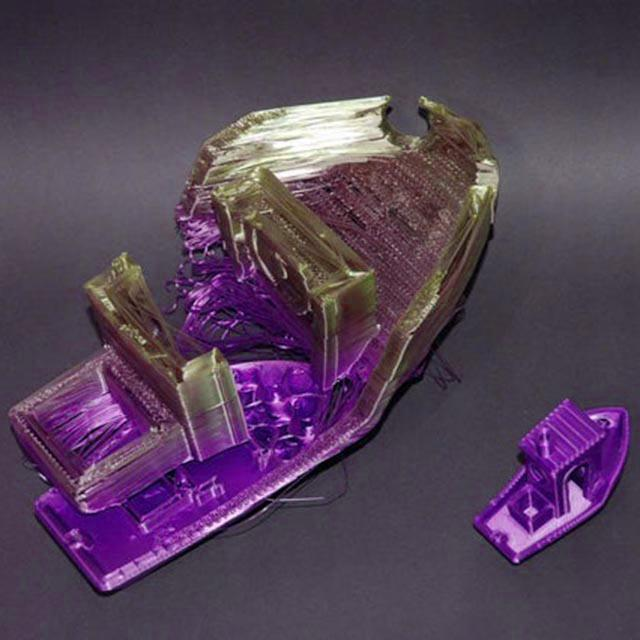Spaghetti: (160, 204, 316, 360)
